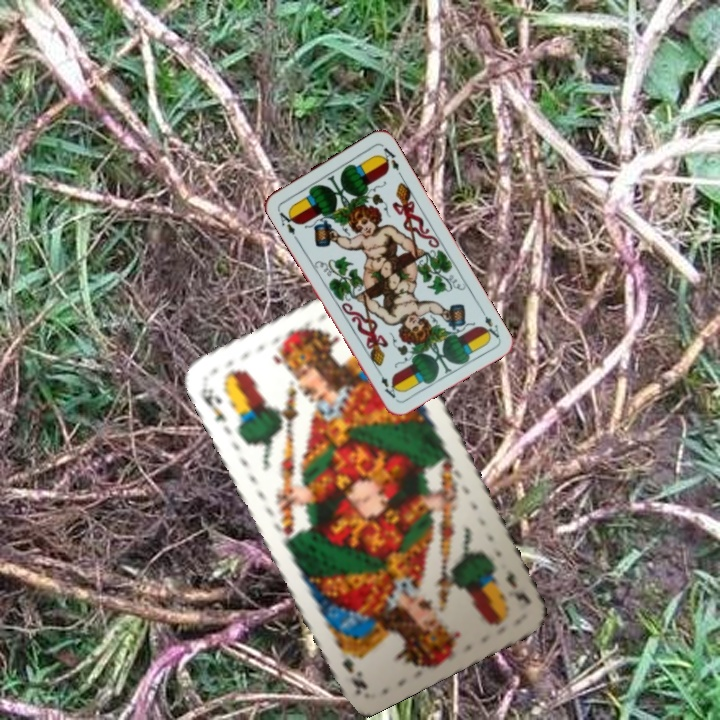EA: (476, 304, 502, 342), (274, 205, 299, 237)
EK: (196, 384, 230, 425), (502, 566, 534, 607)
